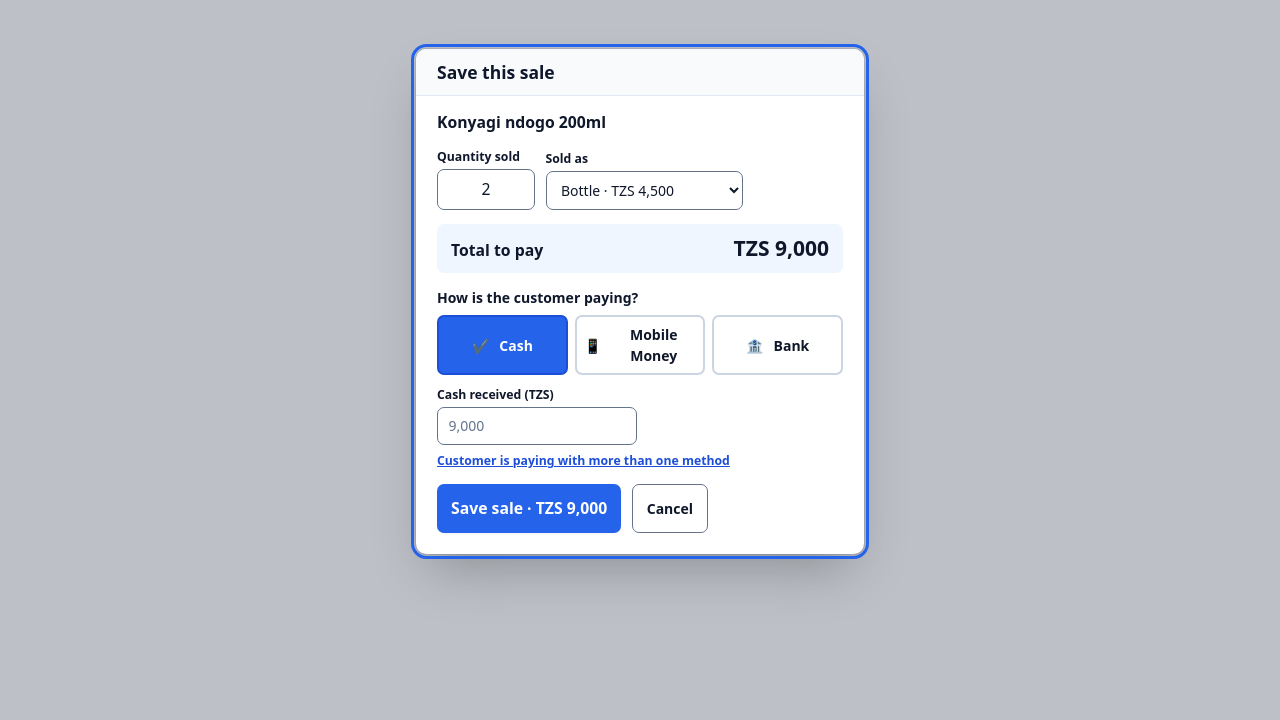
Test: a sale typed on the Daily Sheet › keeps what was typed after a connection problem and retries with the same key (AT-UX-04)
Expected: the radio button labelled "✔ Cash" is shown, [437, 315, 568, 375]
Expected: the dropdown labelled "Sold as" is shown, [546, 171, 742, 210]
Click the button "Save sale · TZS 9,000". click: (529, 508)
box: [437, 484, 621, 532]
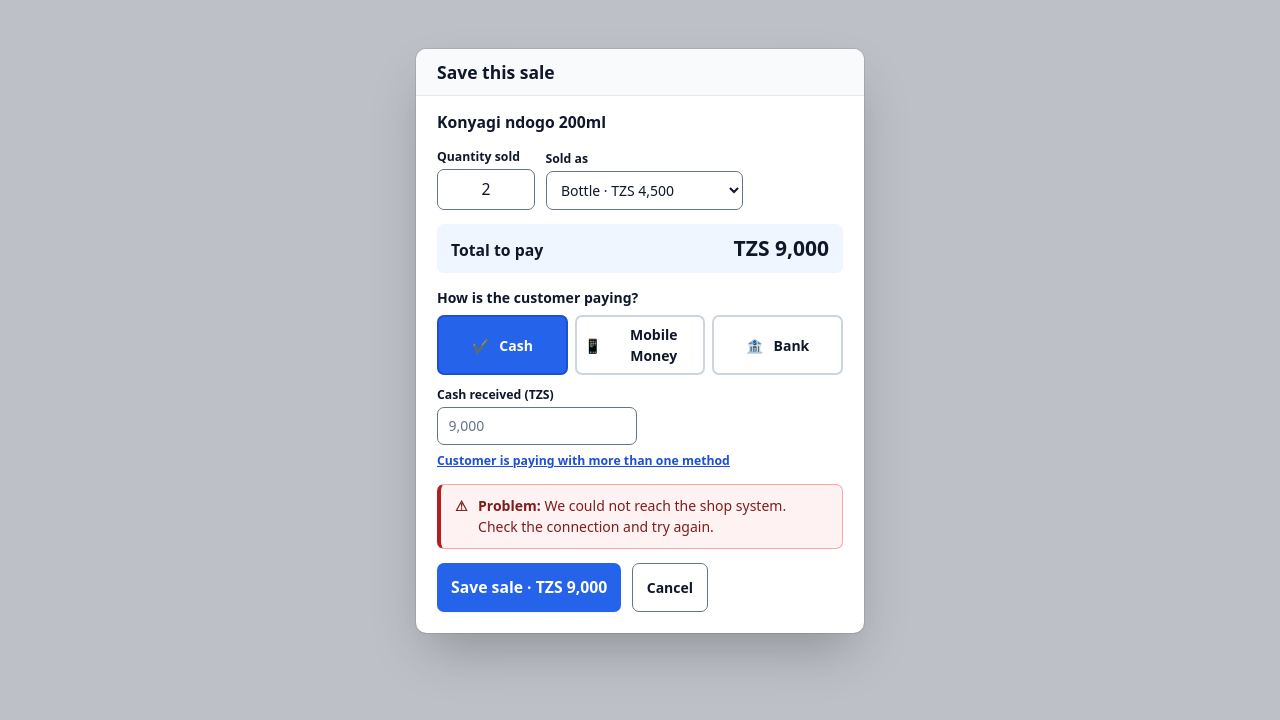
Expected: the text with test id "sale-total" reads "TZS 9,000", [734, 234, 829, 262]
Now the message shows "We could not reach the shop system. Check the connection and try again.", box [478, 496, 786, 536]
Click the button "Save sale · TZS 9,000". click: (529, 587)
box: [437, 562, 621, 612]
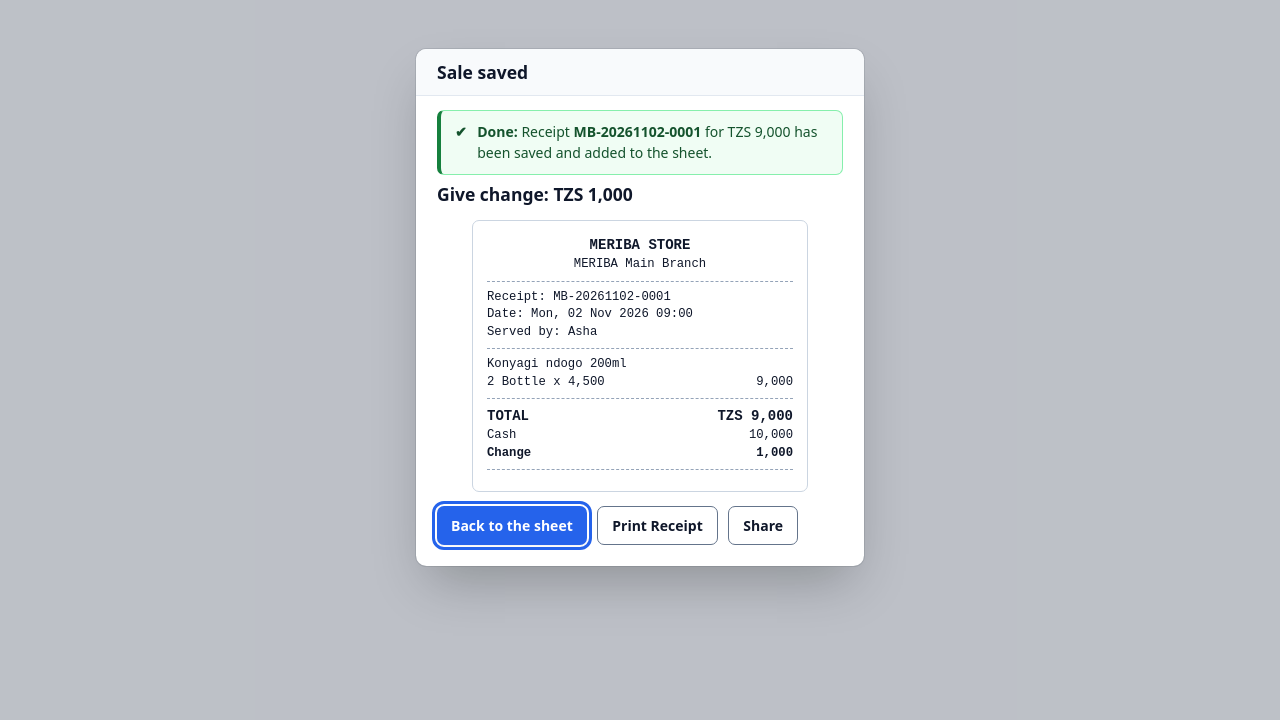
Now the text "has been saved" is shown, box [477, 122, 817, 162]
